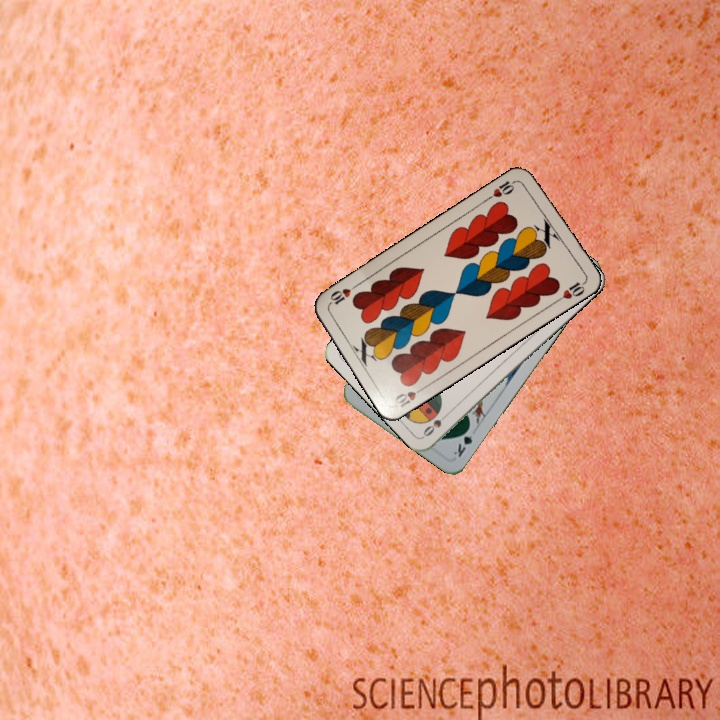GK: (449, 422, 479, 460)
H10: (390, 382, 429, 411), (483, 176, 520, 202)
SO: (419, 407, 452, 439)
